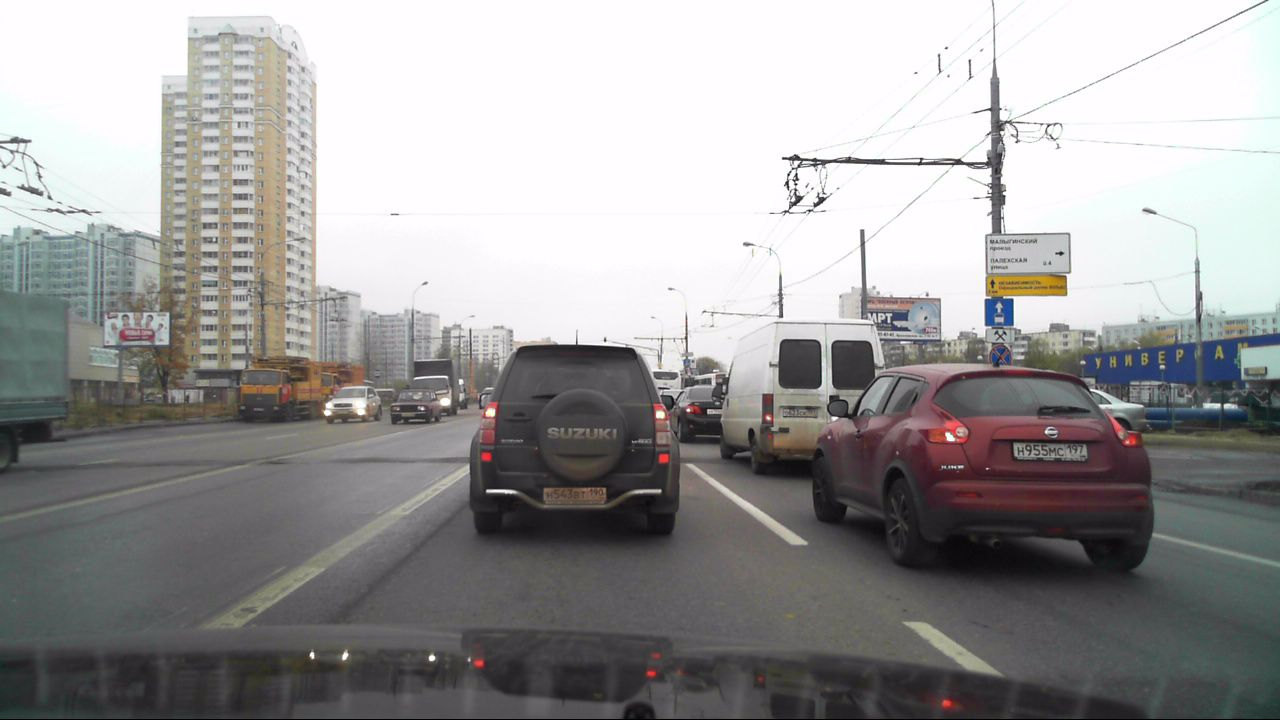No Parking: (990, 345, 1011, 365)
